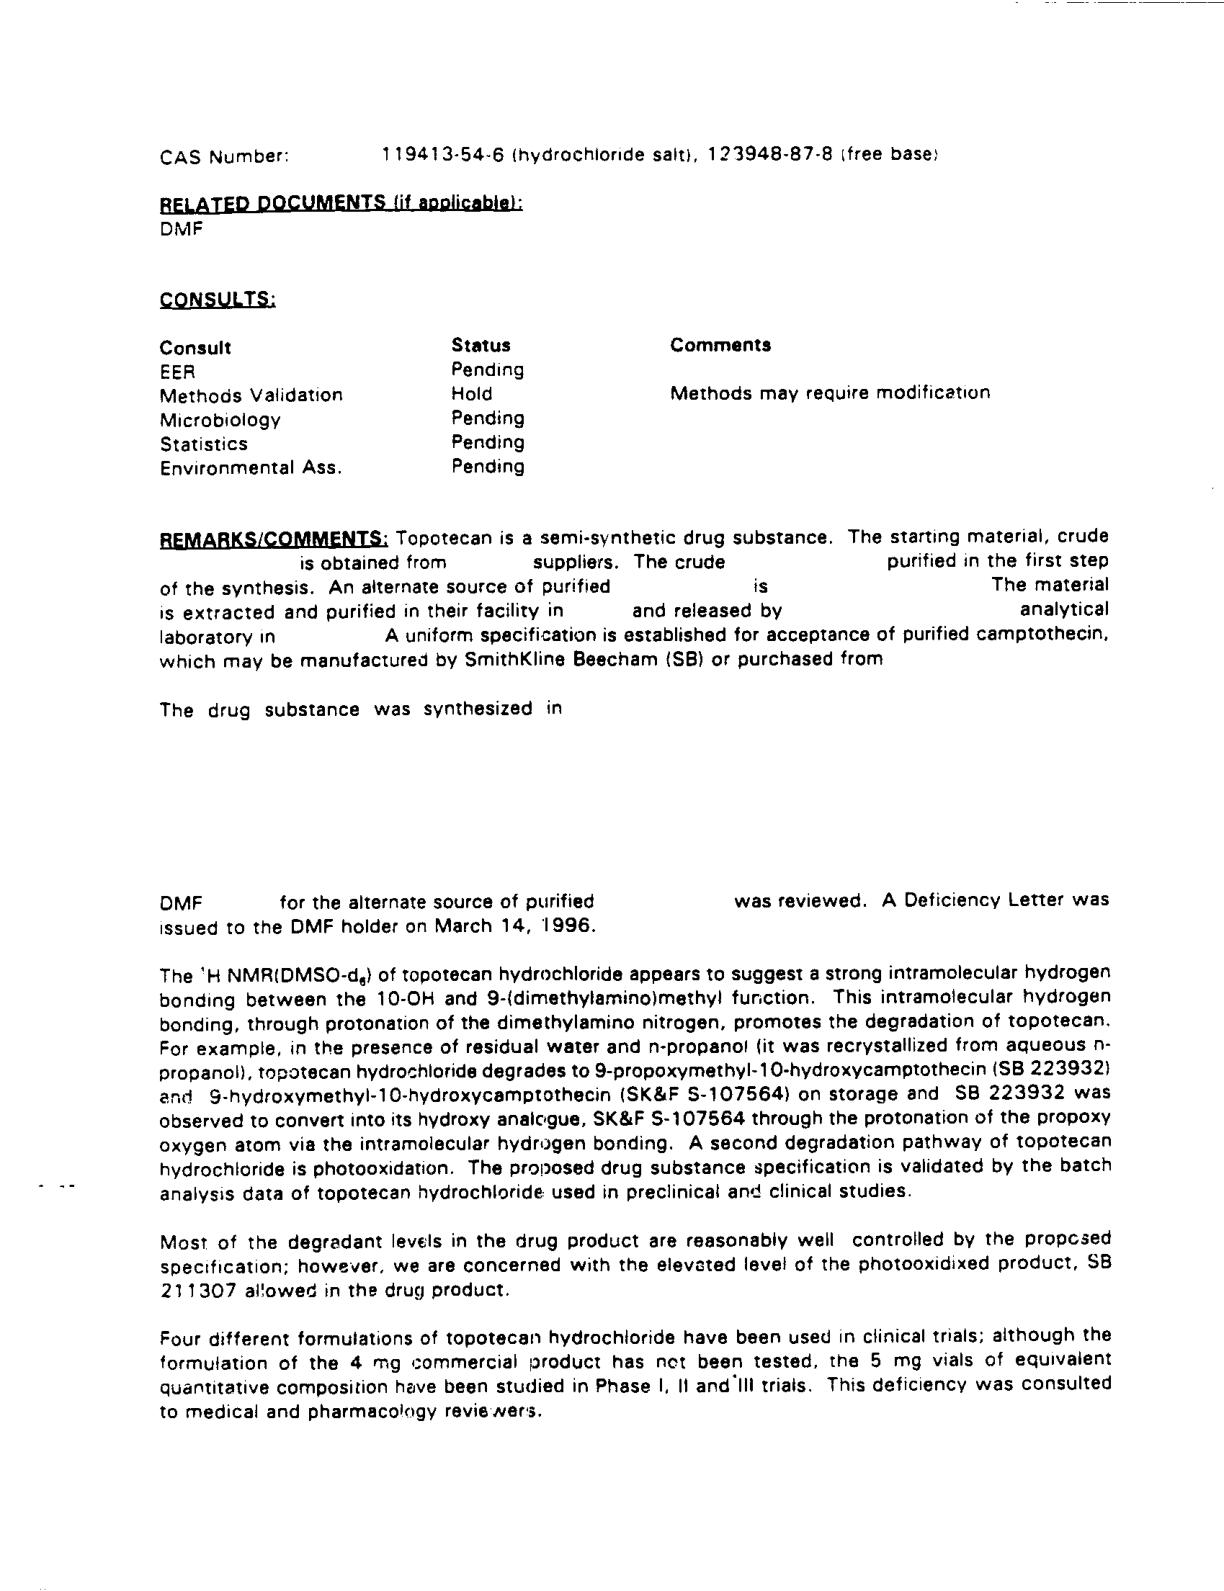nolines: (154, 335, 995, 484)
